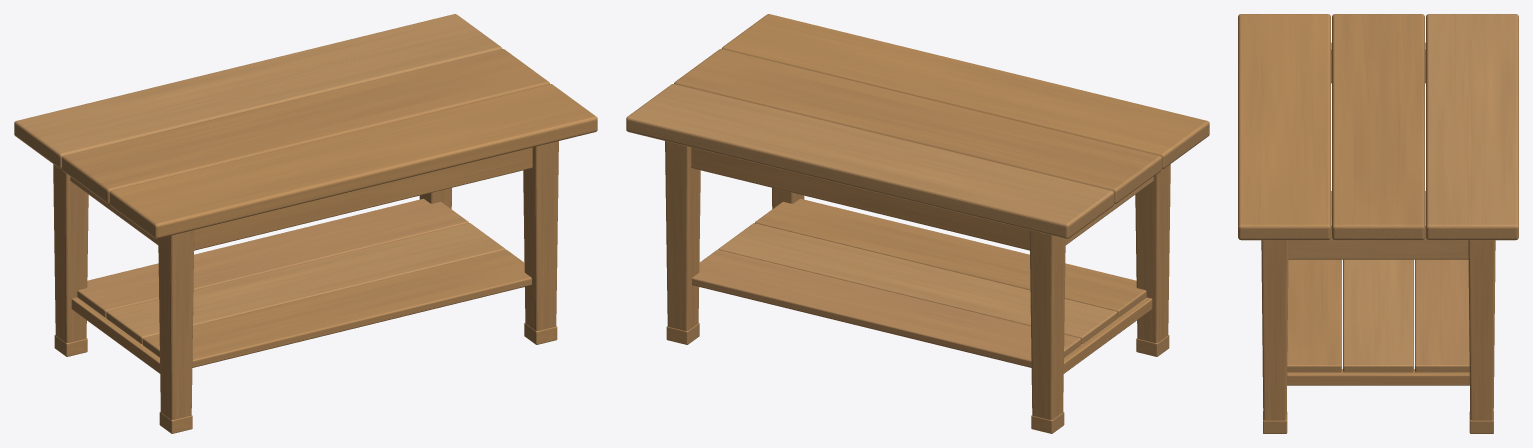
The model's file is table.glb.
3 renders of one model, left to right at view 1: azimuth 30°, elevation 25°; view 2: azimuth 150°, elevation 25°; view 3: azimuth 270°, elevation 25°, orthographic.
Visible parts, largest first — view 1: asset-foundation-v1/table; view 2: asset-foundation-v1/table; view 3: asset-foundation-v1/table.
Boxes of the visible parts, x1,y1,x2,y2 form: asset-foundation-v1/table: (14, 14, 597, 433); asset-foundation-v1/table: (626, 14, 1209, 433); asset-foundation-v1/table: (1238, 14, 1518, 433).
Bounding box in the file's own units: 1.86 × 0.905 × 1.04.
5 materials, 5 textured.
